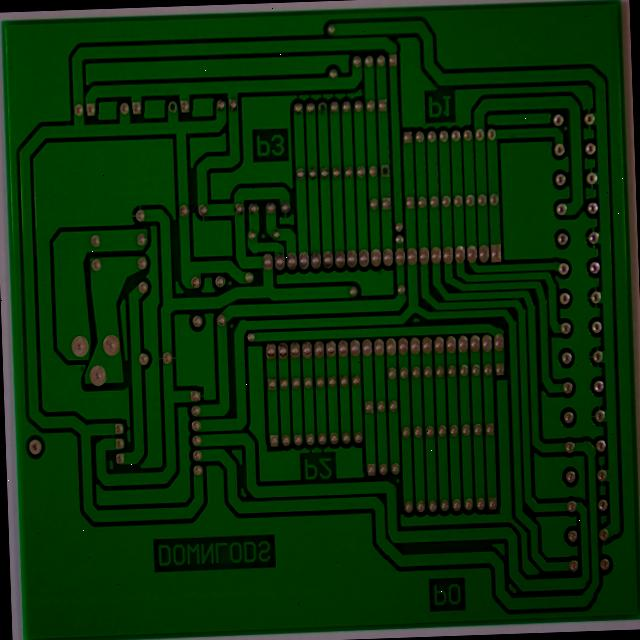missing_hole: (115, 109, 133, 133), (350, 185, 365, 209), (281, 115, 297, 134)
